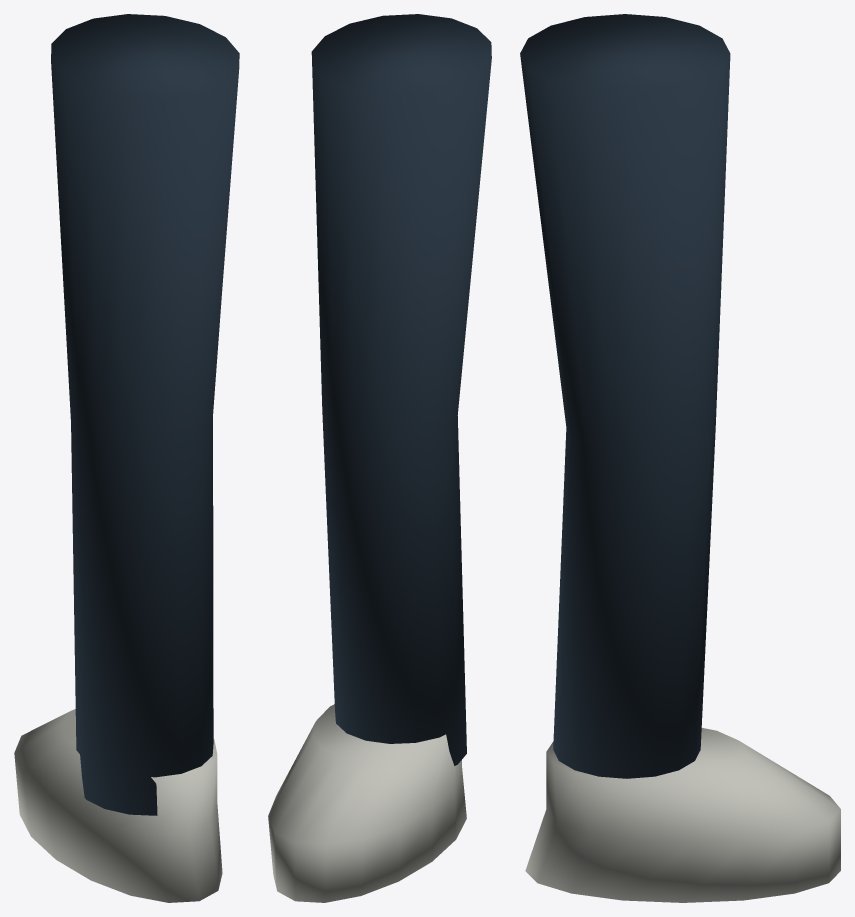
File: ped_leg.glb
3 views of the same model, side by side, from view 1: azimuth 30°, elevation 25°; view 2: azimuth 150°, elevation 25°; view 3: azimuth 270°, elevation 25° (orthographic). The views are drawn at different scales.
Parts seen in each view (by area): view 1: ped_leg; view 2: ped_leg; view 3: ped_leg.
Boxes of the visible parts, left/top/right/bottom form: ped_leg: left=14, top=14, right=239, bottom=902; ped_leg: left=268, top=14, right=491, bottom=902; ped_leg: left=520, top=14, right=840, bottom=902.
Bounding box in the file's own units: 0.178 × 0.855 × 0.305.
